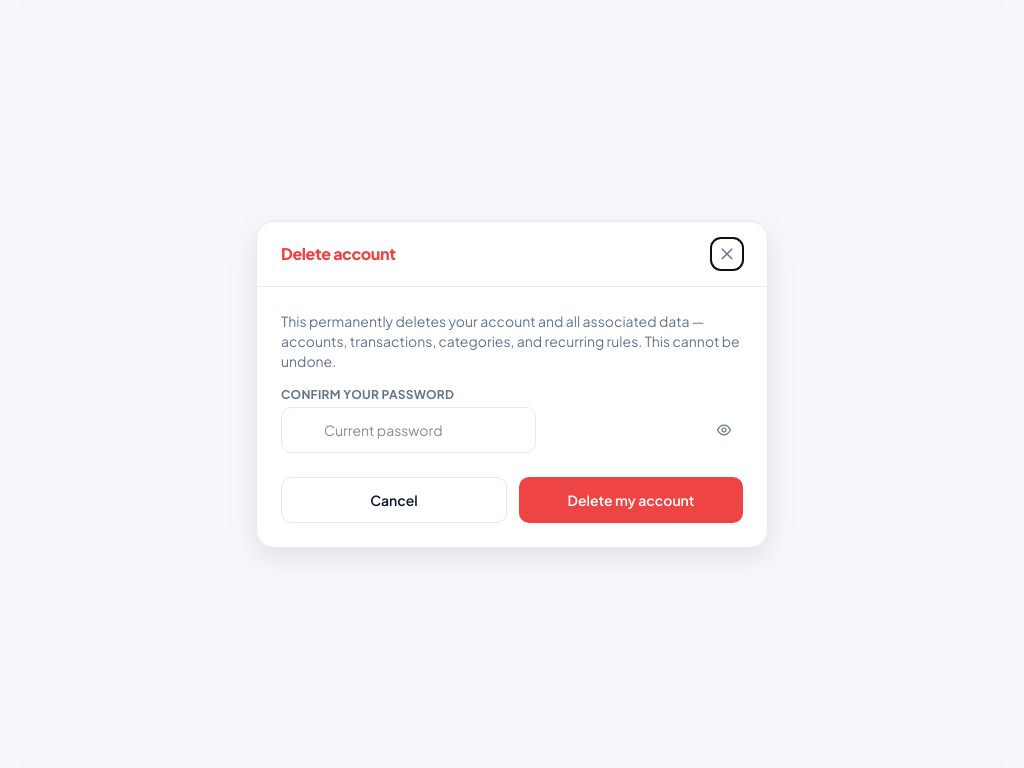
Scenario: DeleteAccountModal › shows a validation error when submitted with no password
Click the button "Delete my account": [631, 500] box [519,476,743,522]
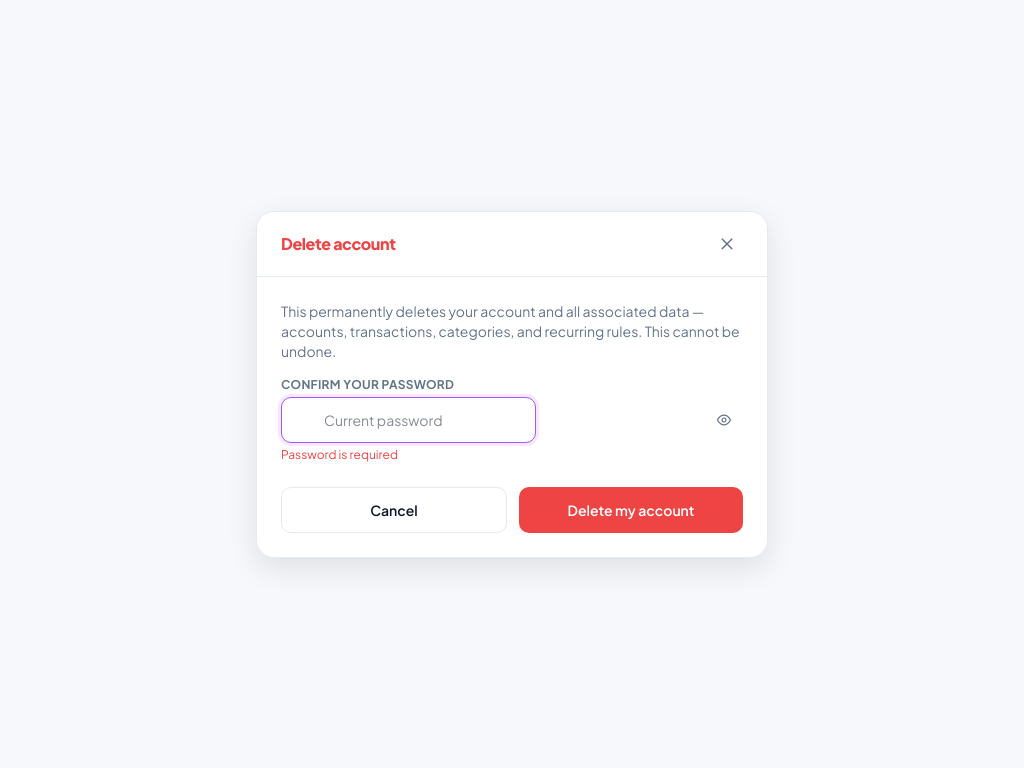
Result: the text "Password is required" is shown at [281,446,398,462]
